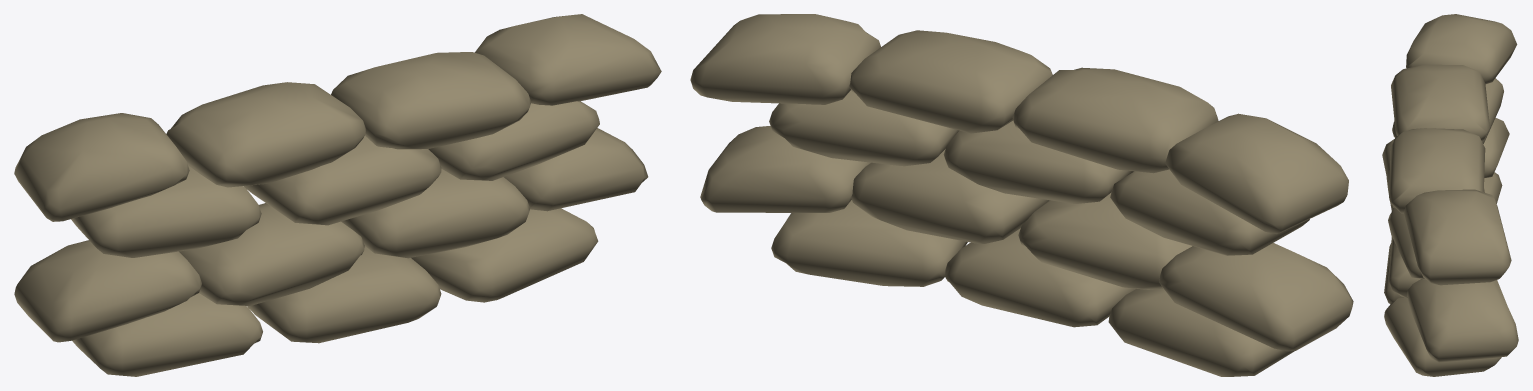
Rendered from sack_trench.glb.
3 renders of one model, left to right at view 1: azimuth 30°, elevation 25°; view 2: azimuth 150°, elevation 25°; view 3: azimuth 270°, elevation 25°, orthographic. The views are drawn at different scales.
Parts seen in each view (by area): view 1: SackTrench; view 2: SackTrench; view 3: SackTrench.
Part boxes in pixels (x1,y1,x2,y2): SackTrench: (14,14,661,376); SackTrench: (690,14,1353,376); SackTrench: (1382,14,1518,376).
Bounding box in the file's own units: 3.16 × 1.19 × 0.775.
